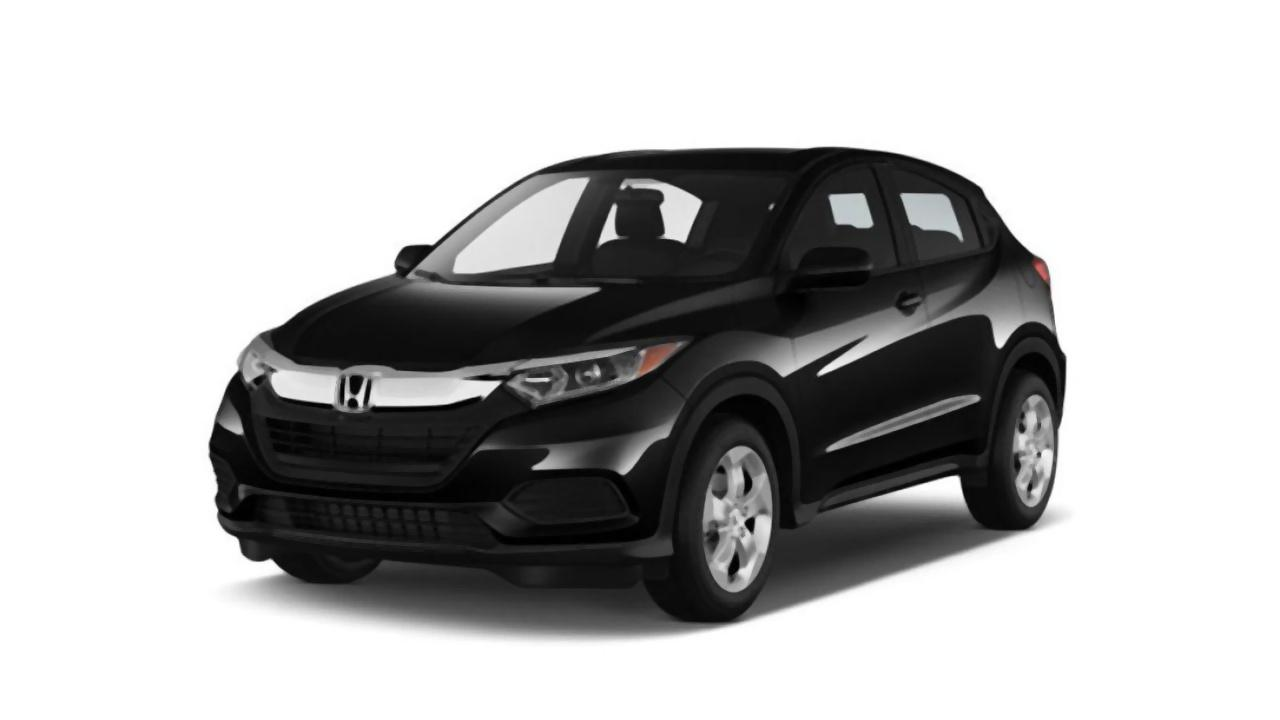Car hood: (253, 273, 762, 381)
Fender - -F-L-: (658, 248, 808, 435)
Fender - -R-L-: (977, 222, 1066, 363)
Front bumper: (213, 502, 681, 594)
Headlight - -L-: (504, 335, 698, 412)
Headlight - -R-: (235, 335, 291, 403)
Passenger-s door - -F-L-: (770, 145, 936, 530)
Passenger-s door - -R-L-: (869, 142, 1028, 487)
Rear light - -L-: (1018, 250, 1059, 286)
Side mirror - -L-: (785, 422, 1006, 543), (781, 237, 875, 301)
Side mirror - -R-: (389, 241, 440, 275)
